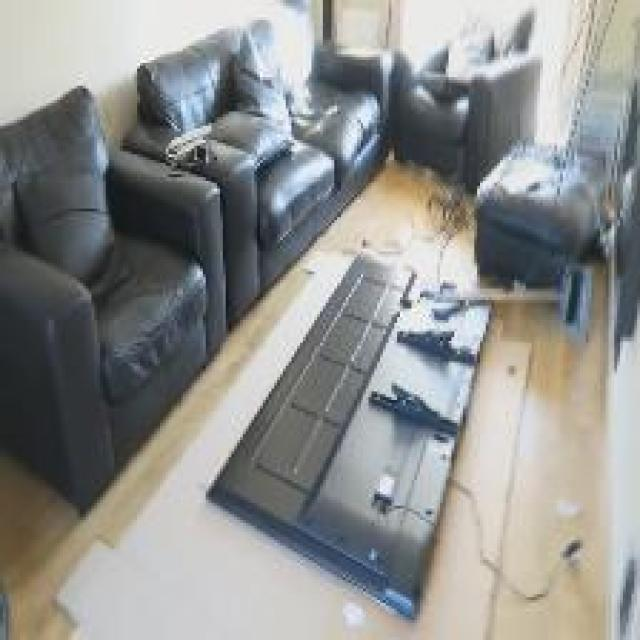other: (494, 374, 546, 445), (407, 238, 463, 274)
